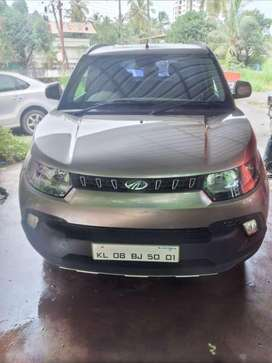KL0BBJ5001: (92, 242, 179, 261)
